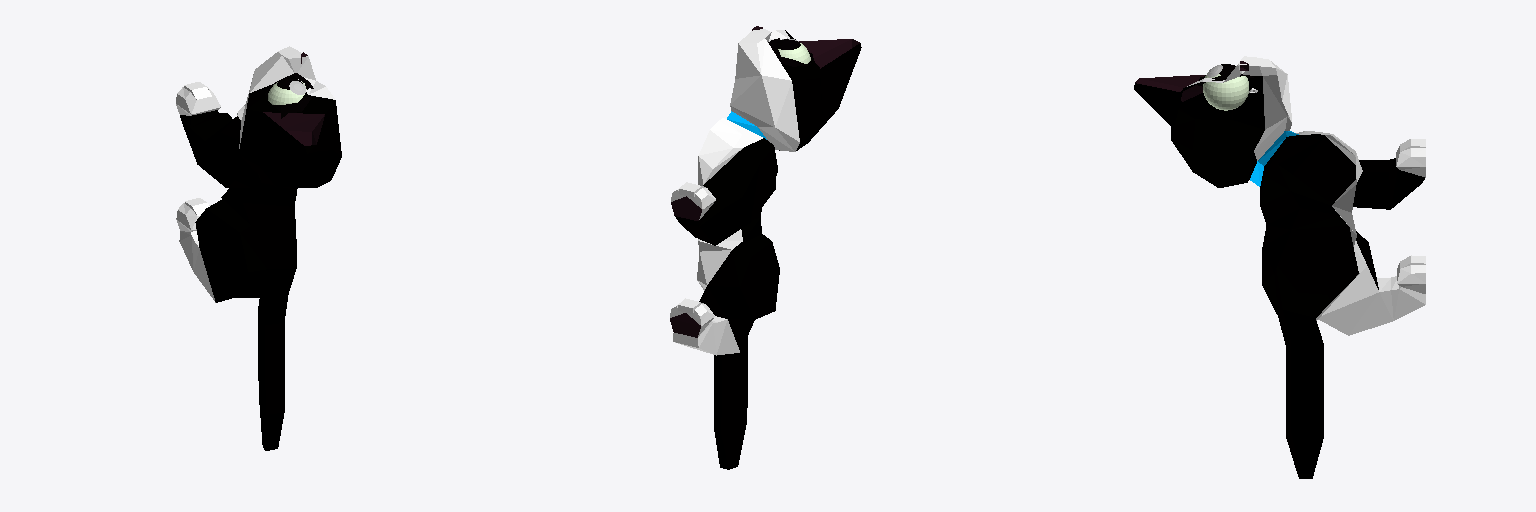
The model's file is TuxCat0019.obj.
3 renders of one model, left to right at view 1: azimuth 30°, elevation 25°; view 2: azimuth 150°, elevation 25°; view 3: azimuth 270°, elevation 25°, orthographic.
Parts seen in each view (by area): view 1: Cat, Eyes; view 2: Cat, Eyes; view 3: Cat, Eyes.
Part boxes in pixels (x1,y1,x2,y2): Cat: (176,46,341,450); Eyes: (268,78,306,104); Cat: (670,26,861,469); Eyes: (776,38,810,63); Cat: (1134,56,1425,478); Eyes: (1203,64,1248,110).
Size of the model in its own units: 2.23 by 13.94 by 8.91.